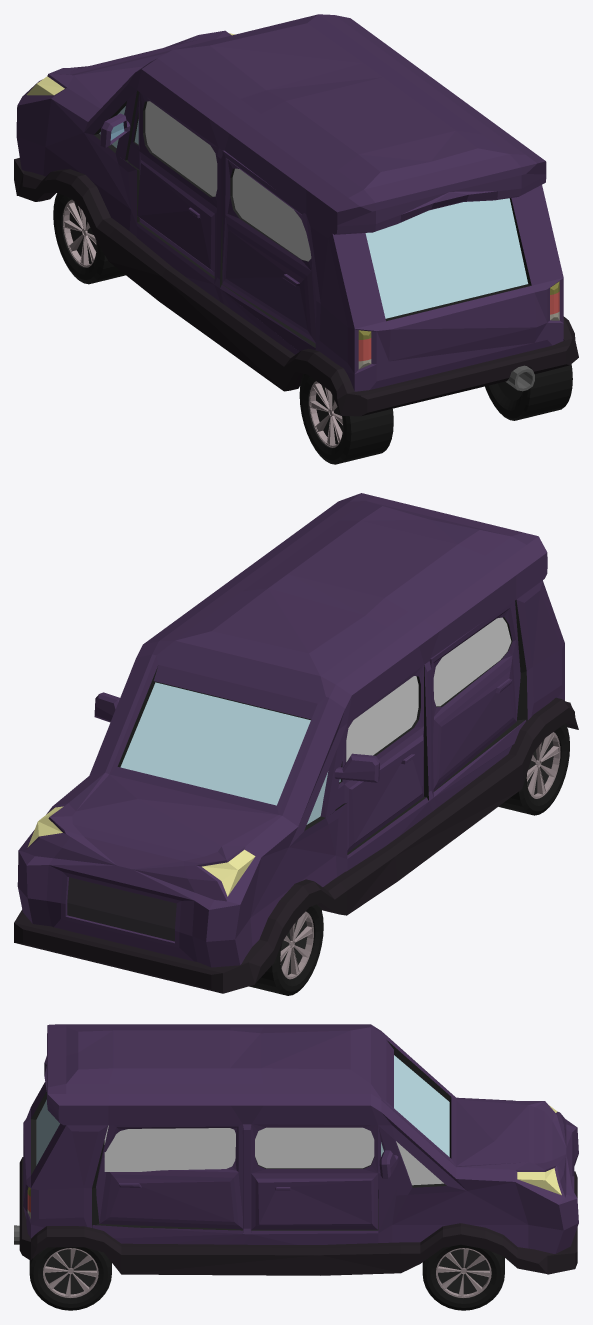
Rendered from Car_001.fbx.
The picture shows the model from 3 angles, top to bottom: view 1: azimuth 30°, elevation 25°; view 2: azimuth 150°, elevation 25°; view 3: azimuth 270°, elevation 25°; orthographic projection. The views are drawn at different scales.
Visible parts, largest first — view 1: CarBody, CarRim, WindowBack, BackDoor.L, FrontDoor.L, BackTire.L, WindowFrontDoor.L, WindowBackDoor.L, FrontTire.L, BackTire.R, SideMirror.L; view 2: CarBody, CarRim, CarWindow.Front, BackDoor.L, FrontDoor.L, WindowBackDoor.L, FrontTire.L, WindowFrontDoor.L, BackTire.L, SideMirror.L; view 3: CarBody, CarRim, BackDoor.R, FrontDoor.R, WindowBackDoor.L.001, WindowFrontDoor.R, FrontTire.R, BackTire.R, CarWindow.Front, WindowBack, WindowFront.R, SideMirror.R.
Boxes of the visible parts, x1,y1,x2,y2 form: CarBody: (16,14,563,391); CarRim: (14,158,578,416); WindowBack: (365,198,528,318); BackDoor.L: (222,150,316,343); FrontDoor.L: (127,92,218,276); BackTire.L: (299,373,393,464); WindowFrontDoor.L: (145,101,217,196); WindowBackDoor.L: (232,168,311,261); FrontTire.L: (53,193,125,284); BackTire.R: (485,364,572,420); SideMirror.L: (100,113,130,147); CarBody: (17,493,564,967); CarRim: (14,697,578,993); CarWindow.Front: (120,682,310,805); BackDoor.L: (429,601,520,790); FrontDoor.L: (335,665,423,852); WindowBackDoor.L: (433,617,511,706); FrontTire.L: (249,904,323,995); WindowFrontDoor.L: (346,676,418,761); BackTire.L: (498,723,569,815); SideMirror.L: (334,753,379,782); CarBody: (23,1024,578,1253); CarRim: (19,1157,577,1275); BackDoor.R: (96,1124,242,1229); FrontDoor.R: (251,1124,396,1229); WindowBackDoor.L.001: (104,1125,235,1171); WindowFrontDoor.R: (255,1127,374,1168); FrontTire.R: (422,1244,504,1310); BackTire.R: (29,1247,111,1310); CarWindow.Front: (394,1055,449,1156); WindowBack: (36,1099,59,1165); WindowFront.R: (396,1141,443,1185); SideMirror.R: (379,1150,398,1178).
Size of the model in its own units: 1284 by 1193 by 2812.
